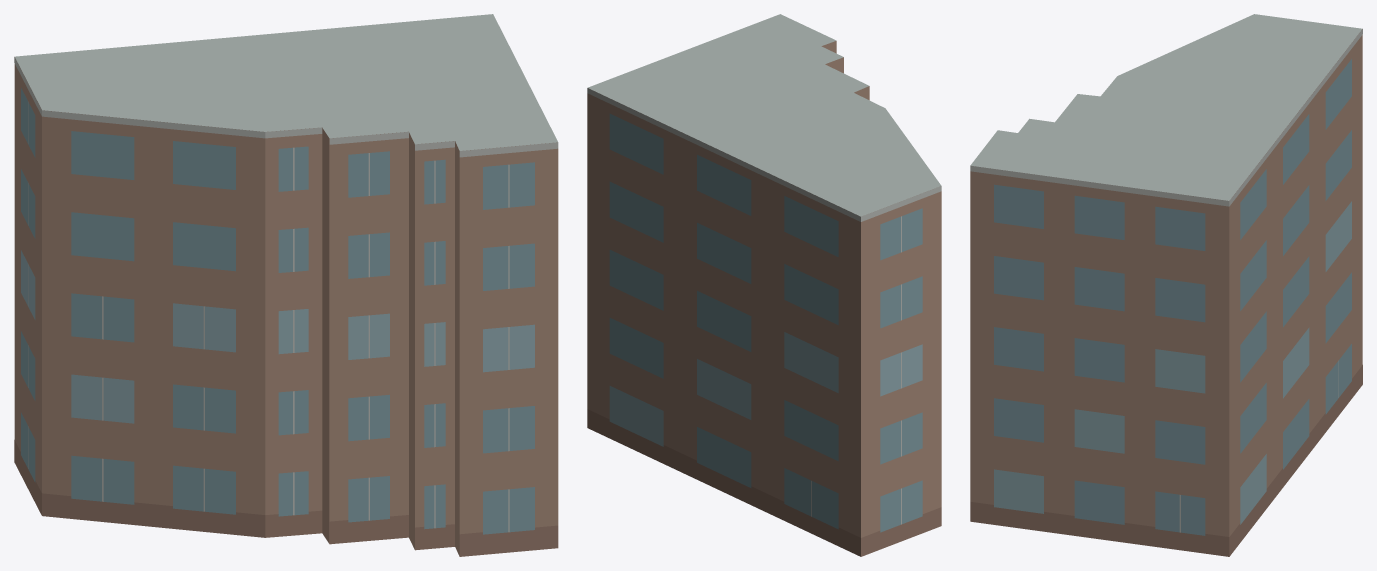
The model's file is survey-upis-32985528.glb.
The picture shows the model from 3 angles, left to right: view 1: azimuth 30°, elevation 25°; view 2: azimuth 150°, elevation 25°; view 3: azimuth 270°, elevation 25°; orthographic projection. The views are drawn at different scales.
Visible parts, largest first — view 1: survey-upis-32985528.tmp; view 2: survey-upis-32985528.tmp; view 3: survey-upis-32985528.tmp.
Part boxes in pixels (box(x1,y1,x2,y2)): survey-upis-32985528.tmp: box(14, 14, 558, 556); survey-upis-32985528.tmp: box(587, 14, 941, 556); survey-upis-32985528.tmp: box(970, 14, 1362, 556).
Size of the model in its own units: 17.36 by 15.4 by 15.4.
